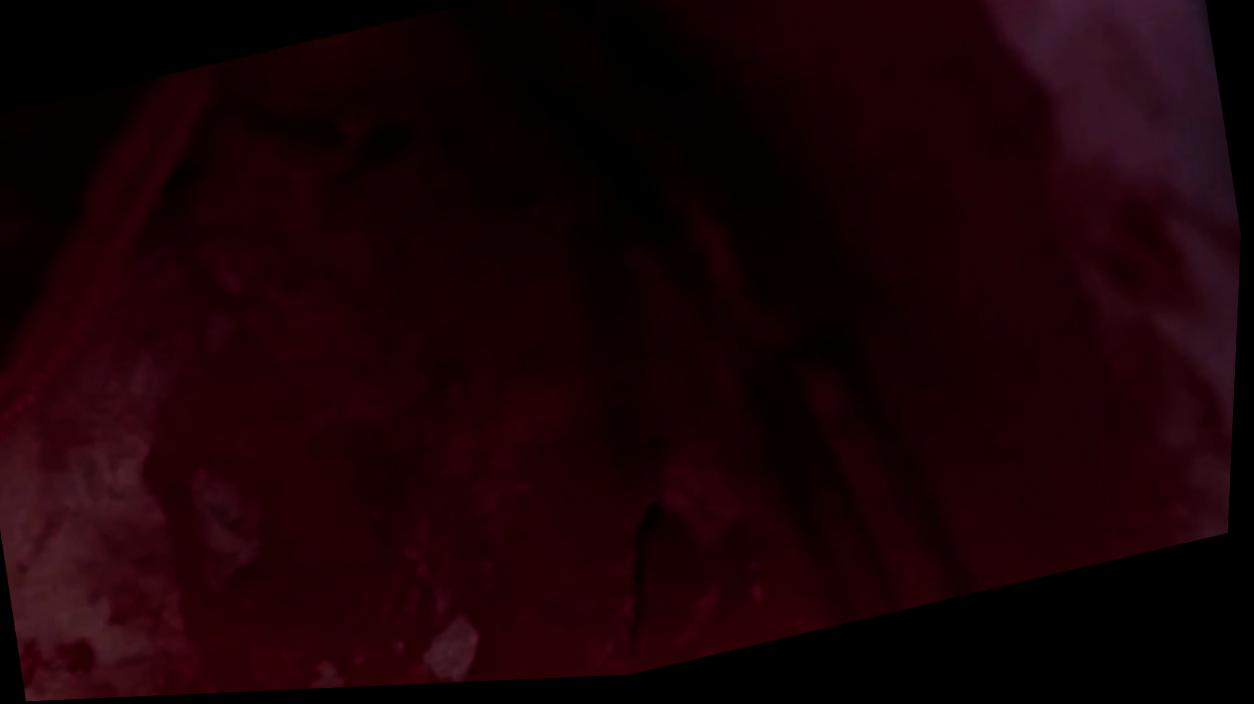Fire: (0, 0, 1237, 702)
